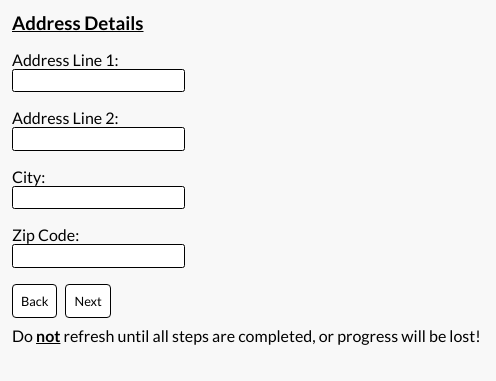
Scenario: form 2 › show zipcode field validation for incorrect format
Type "123456" into the field labelled "Zip Code:".
click(99, 256); type("123456")  # box [12,244,185,268]
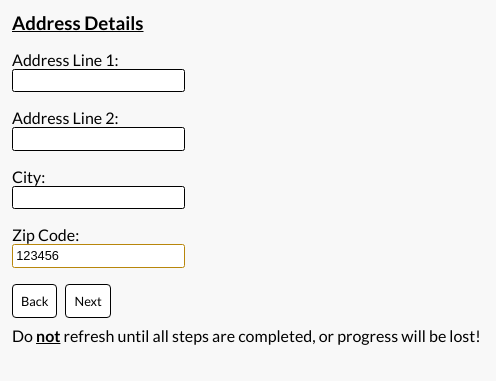
Leave the field labelled "Zip Code:", box [12,244,185,268]
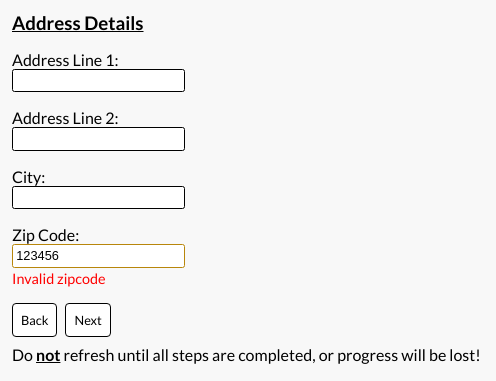
Expected: the text "Invalid zipcode" is shown, [12,270,106,286]
